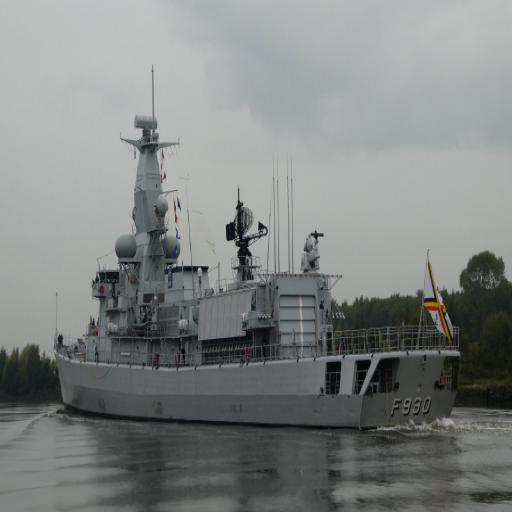Fragata: (53, 49, 464, 436)
